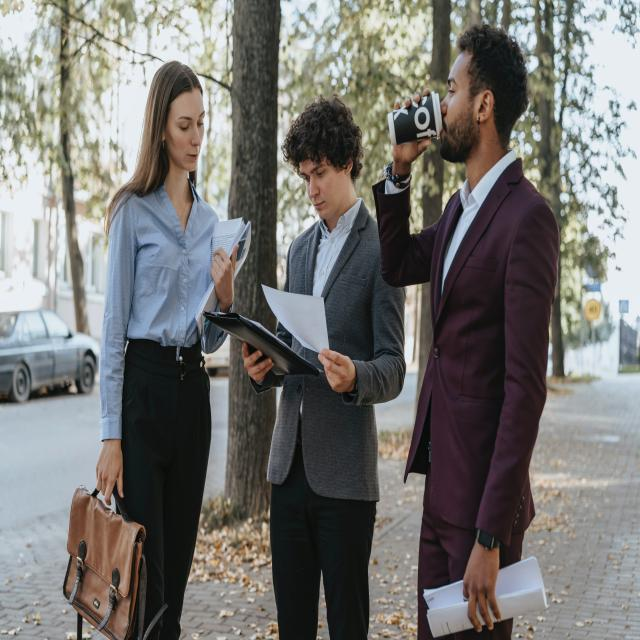cup: (387, 92, 442, 147)
